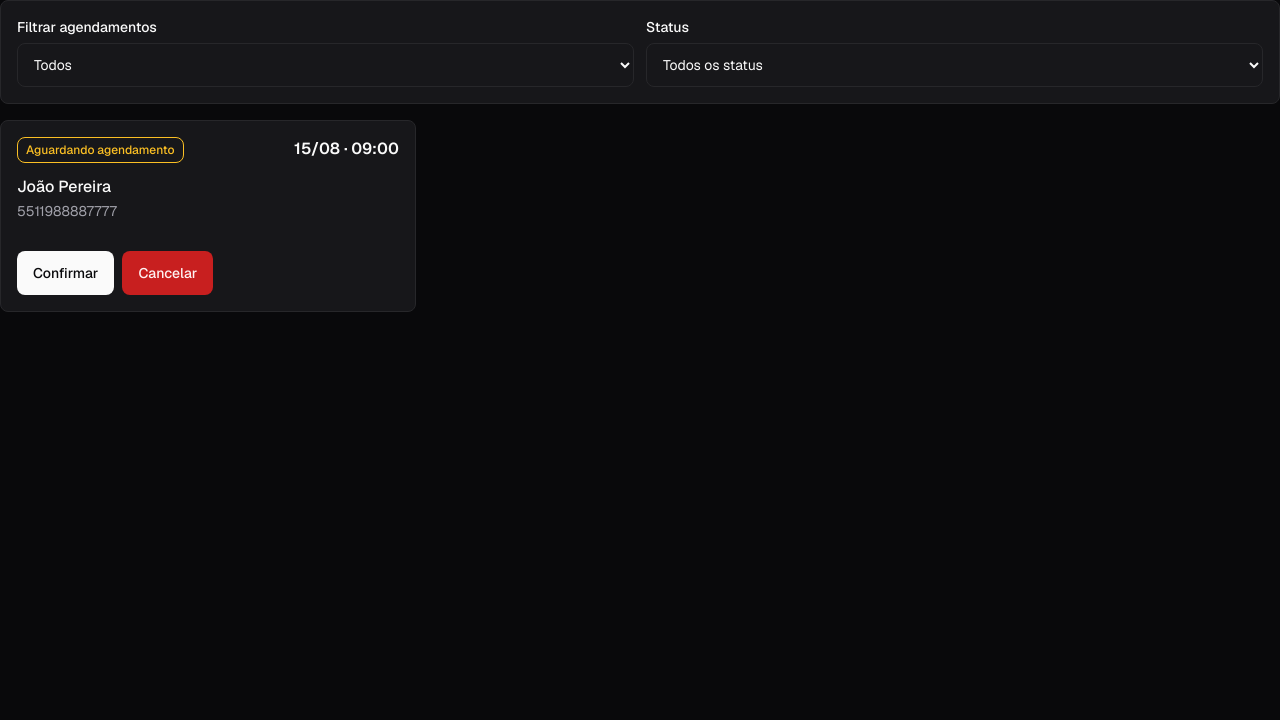
Test case: AppointmentList › disponibiliza a mensagem e a conversa com o cliente após a confirmação
This screenshot has width=1280, height=720.
Click the button "Confirmar". click: (66, 273)
box: [17,251,114,295]
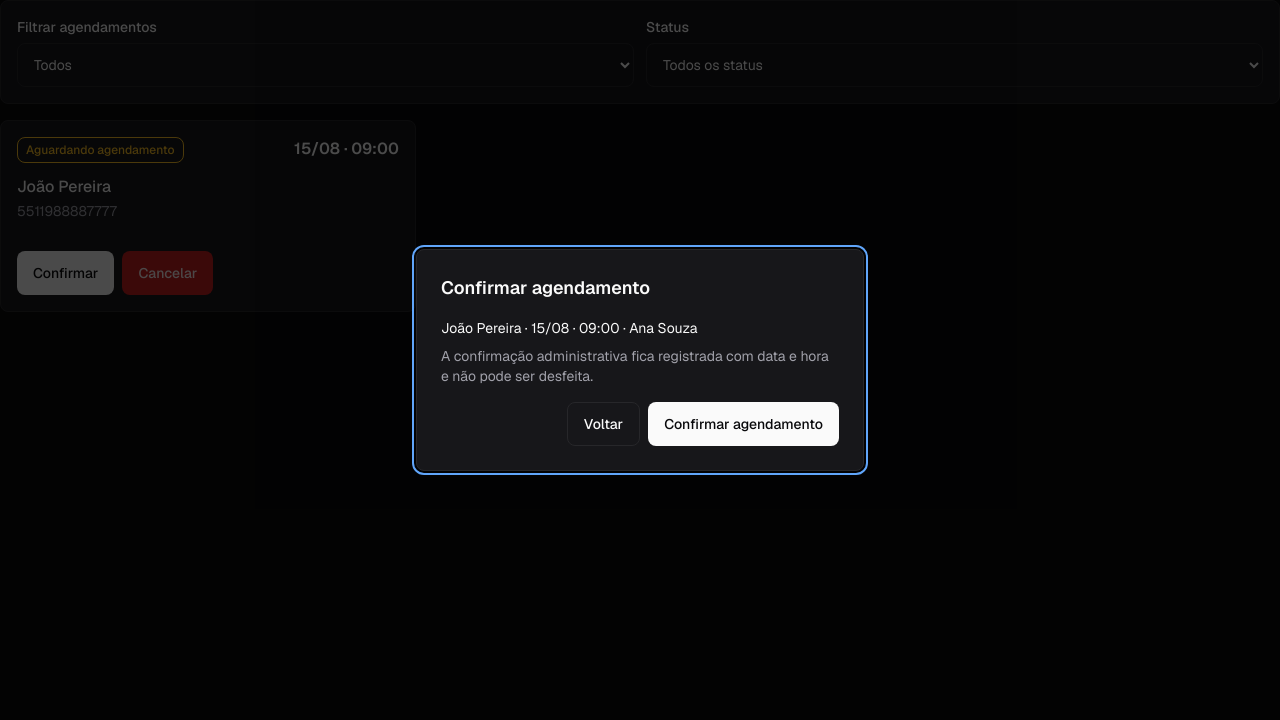
Click the button "Confirmar agendamento". click: (744, 424)
box: [648,402,839,446]
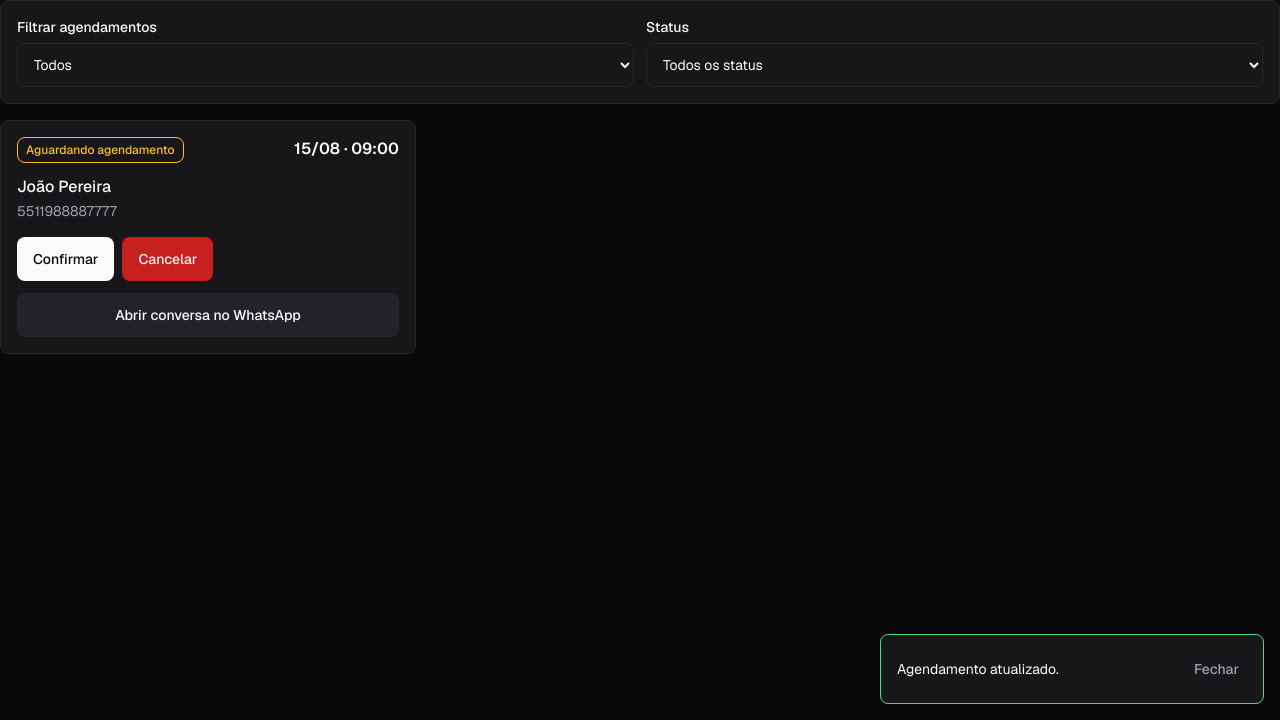
expect the text "Agendamento atualizado." is shown: met, box [897,659,1059,679]
